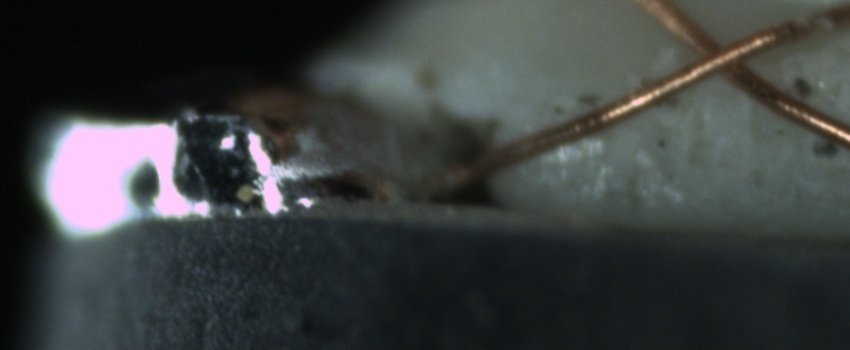CL: (676, 19, 773, 92)
